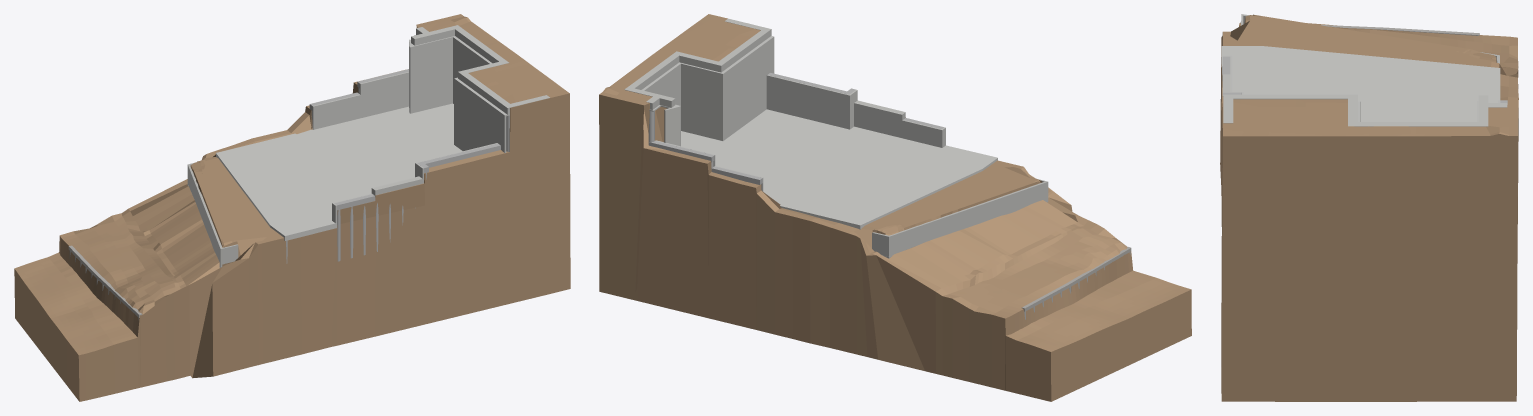
Rendered from slab.glb.
3 renders of one model, left to right at view 1: azimuth 30°, elevation 25°; view 2: azimuth 150°, elevation 25°; view 3: azimuth 270°, elevation 25°, orthographic. The views are drawn at different scales.
Parts seen in each view (by area): view 1: Terrain 07 - SPW2+3.007, Slab.001, Shotcrete--SP4.002, CB1-RL10.010, CB1-RL9.031, Retaining wall.003, CB2-RL13.50.025, CB1-RL9.028, CB2-RL13.50.027, Cube.202, CB2-RL13.50.028; view 2: Terrain 07 - SPW2+3.007, Slab.001, Shotcrete--SP4.002, Retaining wall.003, CB1-RL9.034, CB1-RL9.002, CB1-RL8.011, CB2-RL13.50.025, Cube.202, CB2-RL13.50.027; view 3: Terrain 07 - SPW2+3.007, Slab.001, CB2-RL13.50.025, CB2-RL13.50.027, Cube.202, CB2-RL13.50.028, CB2-RL13.50.026, CB2-RL13.50.030.
Part boxes in pixels (bbox=[...]): Terrain 07 - SPW2+3.007: bbox=[14, 14, 570, 401]; Slab.001: bbox=[216, 103, 462, 240]; Shotcrete--SP4.002: bbox=[409, 35, 509, 152]; CB1-RL10.010: bbox=[360, 72, 408, 117]; CB1-RL9.031: bbox=[312, 94, 360, 129]; Retaining wall.003: bbox=[187, 162, 238, 267]; CB2-RL13.50.025: bbox=[458, 71, 513, 114]; CB1-RL9.028: bbox=[417, 143, 500, 172]; CB2-RL13.50.027: bbox=[453, 25, 507, 63]; Cube.202: bbox=[68, 245, 142, 317]; CB2-RL13.50.028: bbox=[411, 25, 460, 45]; Terrain 07 - SPW2+3.007: bbox=[599, 14, 1191, 401]; Slab.001: bbox=[681, 109, 997, 229]; Shotcrete--SP4.002: bbox=[641, 36, 774, 146]; Retaining wall.003: bbox=[872, 179, 1048, 256]; CB1-RL9.034: bbox=[766, 75, 857, 129]; CB1-RL9.002: bbox=[854, 102, 902, 137]; CB1-RL8.011: bbox=[902, 120, 945, 147]; CB2-RL13.50.025: bbox=[715, 27, 771, 72]; Cube.202: bbox=[1022, 247, 1131, 311]; CB2-RL13.50.027: bbox=[625, 51, 680, 90]; Terrain 07 - SPW2+3.007: bbox=[1220, 14, 1518, 401]; Slab.001: bbox=[1221, 46, 1500, 121]; CB2-RL13.50.025: bbox=[1223, 94, 1357, 99]; CB2-RL13.50.027: bbox=[1348, 122, 1487, 126]; Cube.202: bbox=[1240, 22, 1479, 35]; CB2-RL13.50.028: bbox=[1478, 95, 1488, 126]; CB2-RL13.50.026: bbox=[1348, 94, 1357, 125]; CB2-RL13.50.030: bbox=[1223, 96, 1233, 123].
Size of the model in its own units: 45.82 by 17.8 by 17.99.
